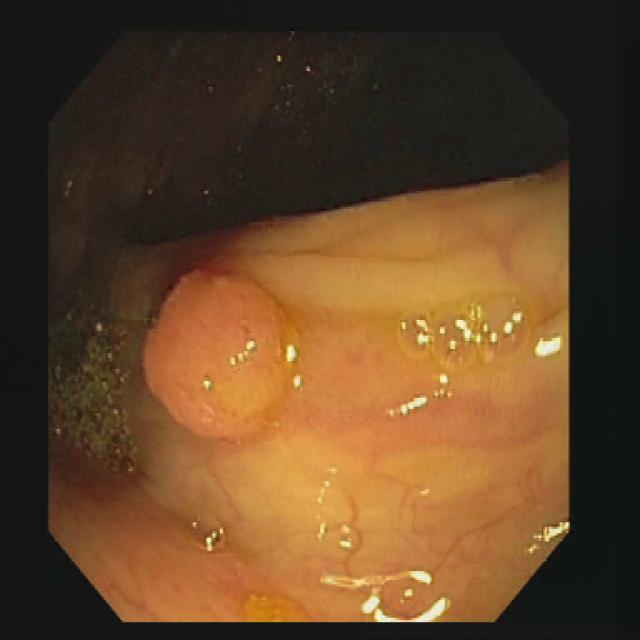tumor: (143, 271, 297, 438)
